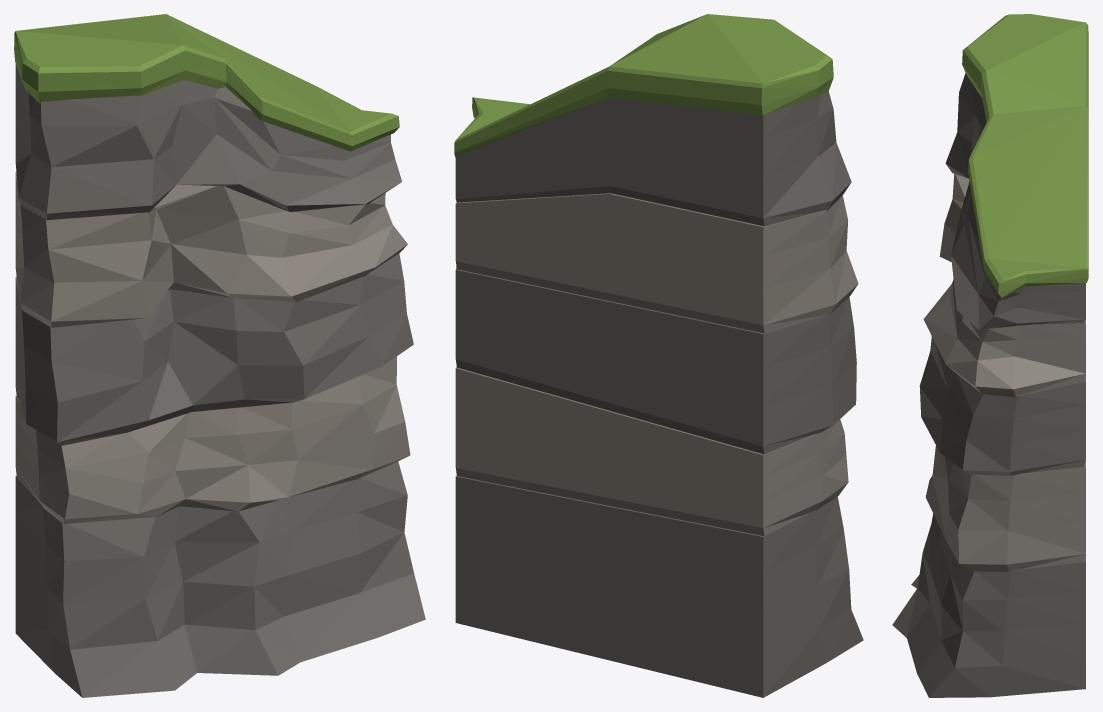
Rendered from ENV_Cliff_B.fbx.
The picture shows the model from 3 angles, left to right: view 1: azimuth 30°, elevation 25°; view 2: azimuth 150°, elevation 25°; view 3: azimuth 270°, elevation 25°; orthographic projection. The views are drawn at different scales.
Visible parts, largest first — view 1: Rock, Strata, Grass; view 2: Rock, Strata, Grass; view 3: Rock, Grass, Strata.
Boxes of the visible parts, left/top/right/bottom form: Rock: left=15, top=64, right=425, bottom=697; Strata: left=15, top=172, right=410, bottom=524; Grass: left=14, top=14, right=399, bottom=151; Rock: left=455, top=91, right=863, bottom=697; Strata: left=455, top=193, right=858, bottom=536; Grass: left=454, top=14, right=833, bottom=157; Rock: left=892, top=73, right=1085, bottom=697; Grass: left=962, top=14, right=1088, bottom=297; Strata: left=923, top=174, right=1085, bottom=571.
Bounding box in the file's own units: 27.03 × 42 × 13.96.
